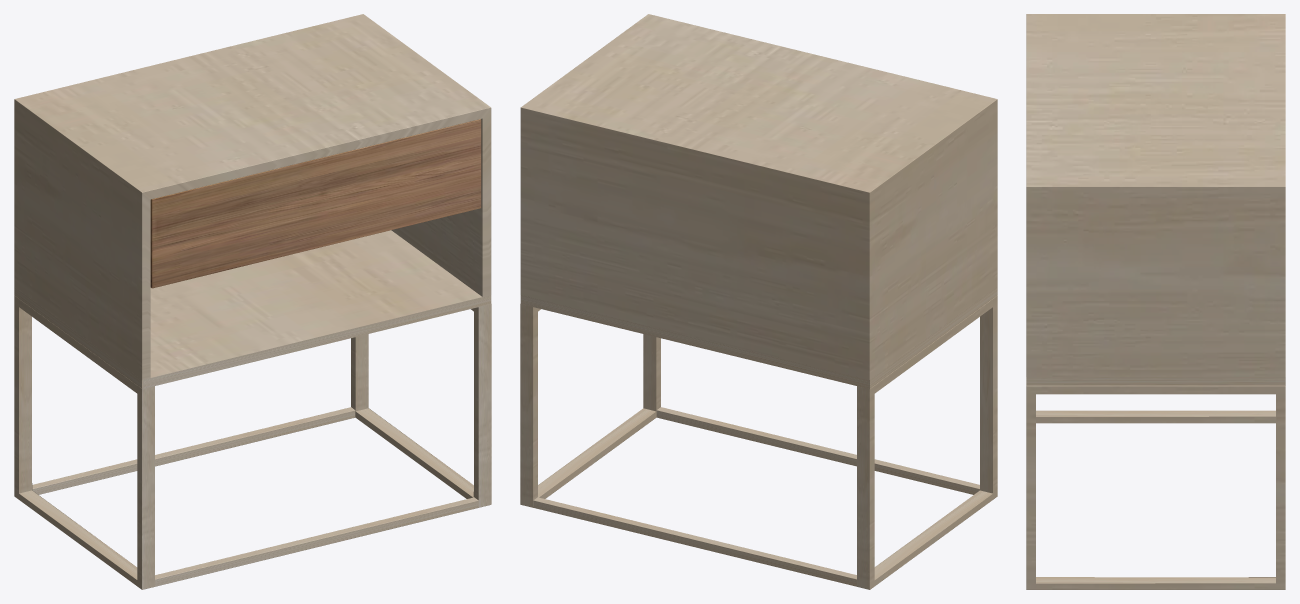
File: preview-bedside.glb
The picture shows the model from 3 angles, left to right: view 1: azimuth 30°, elevation 25°; view 2: azimuth 150°, elevation 25°; view 3: azimuth 270°, elevation 25°; orthographic projection.
Parts seen in each view (by area): view 1: Cube.006, Cube.001; view 2: Cube.006; view 3: Cube.006.
Part boxes in pixels (bbox=[...]): Cube.006: bbox=[14, 14, 491, 589]; Cube.001: bbox=[150, 119, 481, 288]; Cube.006: bbox=[520, 14, 997, 589]; Cube.006: bbox=[1026, 14, 1285, 589].
Bounding box in the file's own units: 0.6004 × 0.6521 × 0.38.
Materials: 2 (2 with a texture image).
